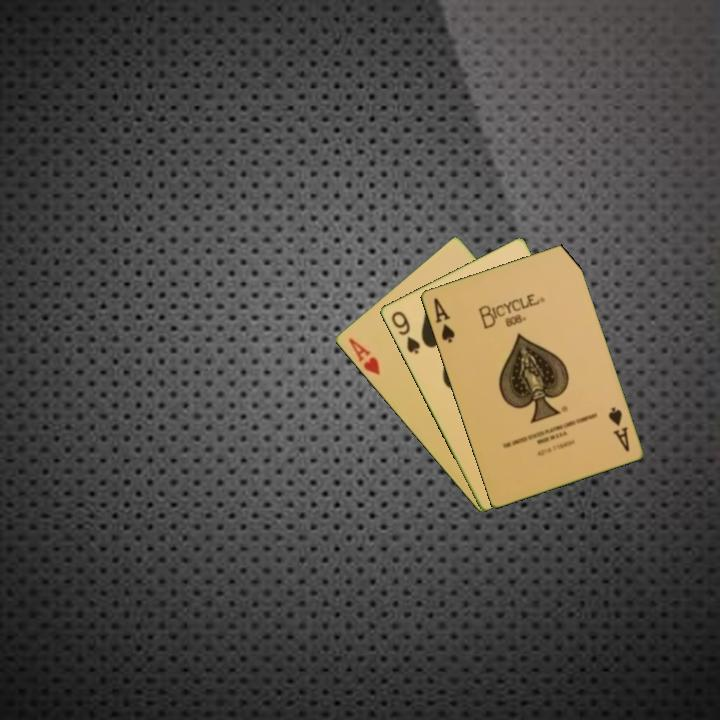9s: (387, 307, 423, 357)
Ah: (344, 334, 383, 378)
As: (604, 403, 632, 455), (430, 294, 457, 346)
